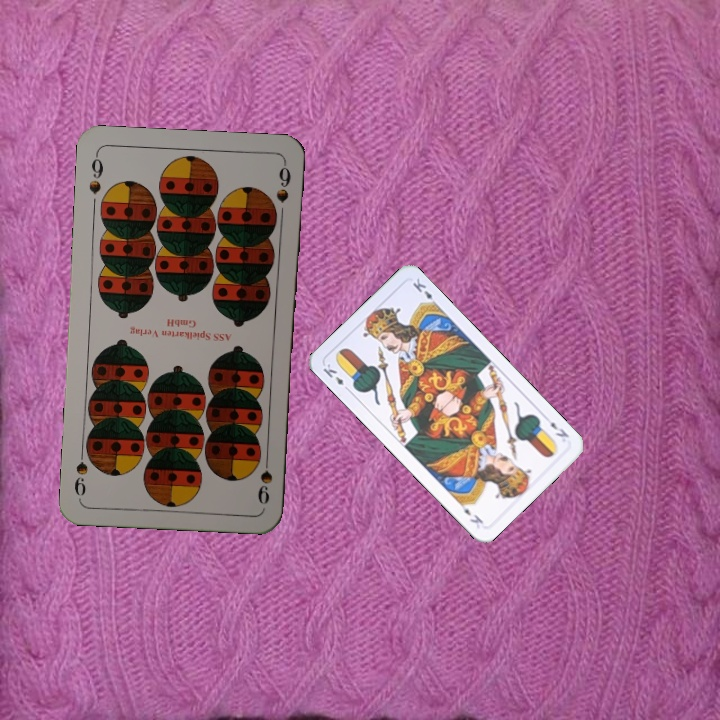EK: (319, 359, 353, 394), (546, 417, 572, 440)
S9: (253, 449, 275, 507), (84, 150, 106, 197)
